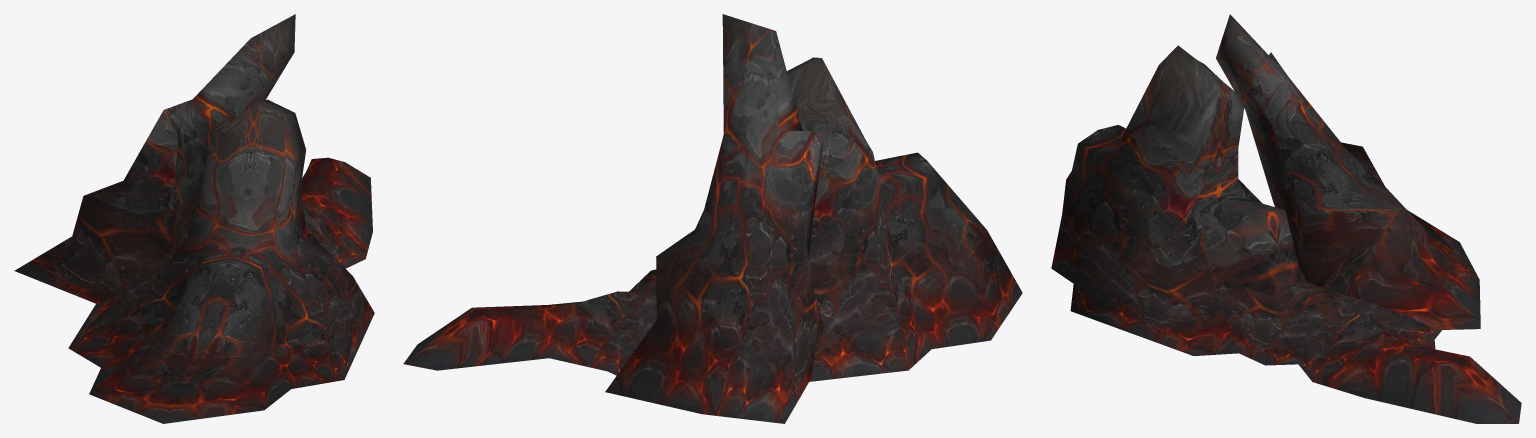
Rendered from 10504_LavaStone13.FBX.
3 renders of one model, left to right at view 1: azimuth 30°, elevation 25°; view 2: azimuth 150°, elevation 25°; view 3: azimuth 270°, elevation 25°, orthographic. The views are drawn at different scales.
Visible parts, largest first — view 1: 10504_LavaStone13; view 2: 10504_LavaStone13; view 3: 10504_LavaStone13.
Part boxes in pixels (x1,y1,x2,y2): 10504_LavaStone13: (14, 14, 374, 423); 10504_LavaStone13: (403, 14, 1022, 423); 10504_LavaStone13: (1051, 14, 1521, 423).
Bounding box in the file's own units: 926 × 617 × 865.
